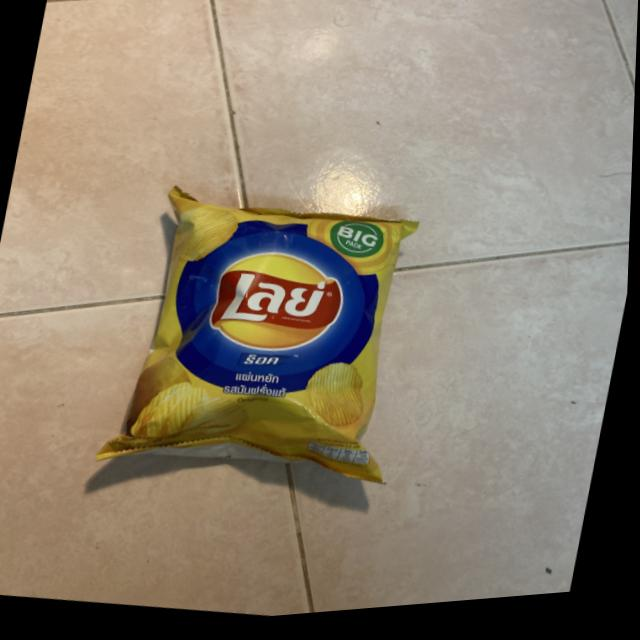LayYellow: (93, 174, 433, 526)
